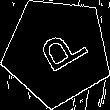P_SW: (27, 22, 87, 80)
